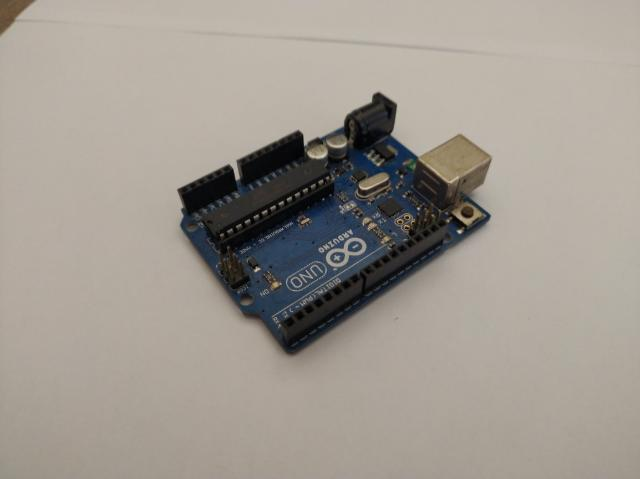arduino: (178, 93, 492, 353)
